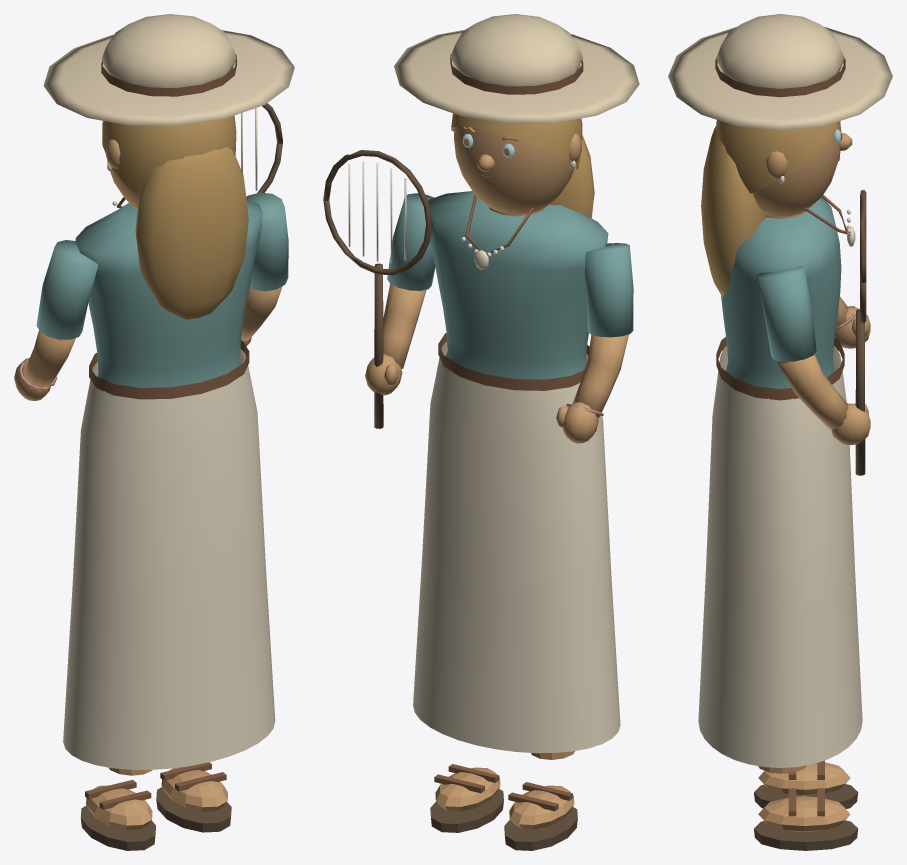
The model's file is SM_NPC_OLA.glb.
3 renders of one model, left to right at view 1: azimuth 30°, elevation 25°; view 2: azimuth 150°, elevation 25°; view 3: azimuth 270°, elevation 25°, orthographic. The views are drawn at different scales.
Parts seen in each view (by area): view 1: SM_NPC_OLA_BODY, SM_NPC_OLA_HAIR, SM_NPC_OLA_ARM_L, SM_NPC_OLA_ARM_R, SM_NPC_OLA_LEG_L, SM_NPC_OLA_LEG_R, SM_NPC_OLA_HEAD; view 2: SM_NPC_OLA_BODY, SM_NPC_OLA_HAIR, SM_NPC_OLA_ARM_R, SM_NPC_OLA_ARM_L, SM_NPC_OLA_HEAD, SM_NPC_OLA_LEG_L, SM_NPC_OLA_LEG_R; view 3: SM_NPC_OLA_BODY, SM_NPC_OLA_HAIR, SM_NPC_OLA_ARM_R, SM_NPC_OLA_LEG_R, SM_NPC_OLA_HEAD, SM_NPC_OLA_LEG_L, SM_NPC_OLA_ARM_L.
Boxes of the visible parts, bbox=[...] form: SM_NPC_OLA_BODY: bbox=[63, 197, 275, 769]; SM_NPC_OLA_HAIR: bbox=[43, 14, 294, 319]; SM_NPC_OLA_ARM_L: bbox=[14, 240, 97, 400]; SM_NPC_OLA_ARM_R: bbox=[241, 103, 288, 346]; SM_NPC_OLA_LEG_L: bbox=[80, 767, 155, 850]; SM_NPC_OLA_LEG_R: bbox=[156, 762, 231, 832]; SM_NPC_OLA_HEAD: bbox=[106, 123, 235, 209]; SM_NPC_OLA_BODY: bbox=[413, 191, 620, 753]; SM_NPC_OLA_HAIR: bbox=[394, 14, 639, 218]; SM_NPC_OLA_ARM_R: bbox=[323, 150, 435, 428]; SM_NPC_OLA_ARM_L: bbox=[556, 243, 633, 443]; SM_NPC_OLA_HEAD: bbox=[454, 126, 581, 214]; SM_NPC_OLA_LEG_L: bbox=[504, 751, 577, 850]; SM_NPC_OLA_LEG_R: bbox=[430, 764, 503, 832]; SM_NPC_OLA_BODY: bbox=[698, 195, 862, 767]; SM_NPC_OLA_HAIR: bbox=[668, 14, 892, 296]; SM_NPC_OLA_ARM_R: bbox=[756, 190, 870, 475]; SM_NPC_OLA_LEG_R: bbox=[754, 765, 858, 850]; SM_NPC_OLA_HEAD: bbox=[753, 121, 852, 216]; SM_NPC_OLA_LEG_L: bbox=[754, 760, 858, 808]; SM_NPC_OLA_ARM_L: bbox=[835, 297, 870, 348].
Size of the model in its own units: 0.6811 by 1.89 by 0.4834.
